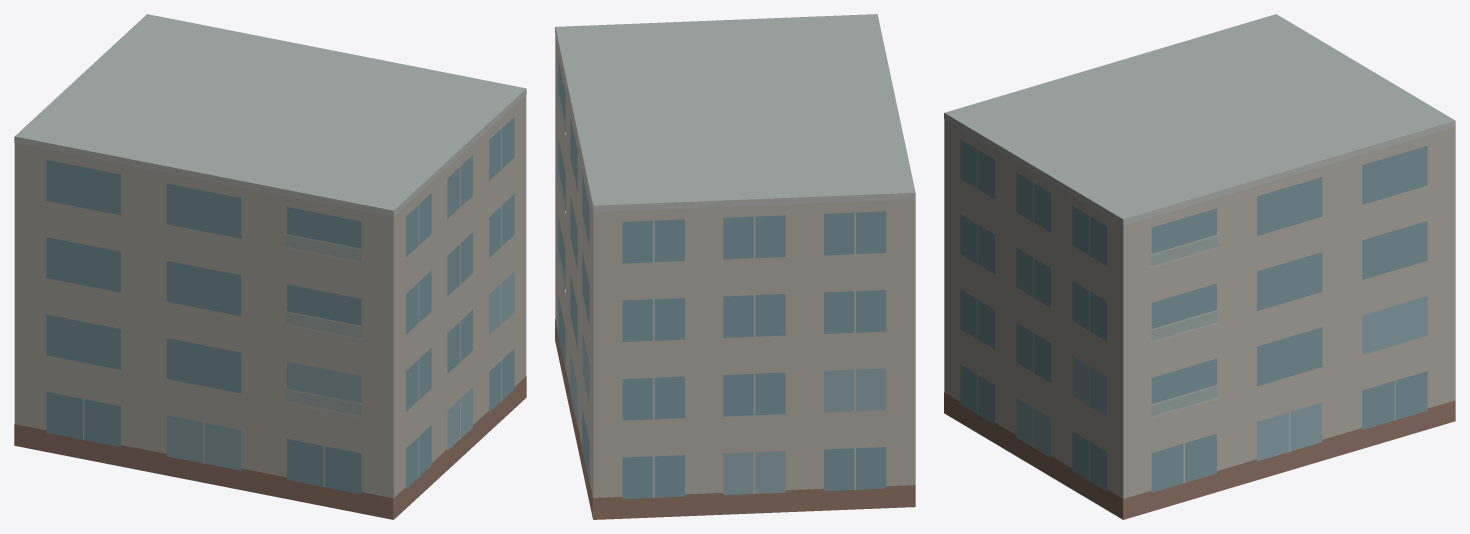
The model's file is survey-upis-32992381.glb.
3 renders of one model, left to right at view 1: azimuth 30°, elevation 25°; view 2: azimuth 150°, elevation 25°; view 3: azimuth 270°, elevation 25°, orthographic. The views are drawn at different scales.
Parts seen in each view (by area): view 1: survey-upis-32992381.tmp; view 2: survey-upis-32992381.tmp; view 3: survey-upis-32992381.tmp.
Part boxes in pixels (x1=…): survey-upis-32992381.tmp: x1=14, y1=14, x2=526, y2=519; survey-upis-32992381.tmp: x1=555, y1=14, x2=915, y2=519; survey-upis-32992381.tmp: x1=944, y1=14, x2=1455, y2=519.
Size of the model in its own units: 17.31 by 11.8 by 18.21.
